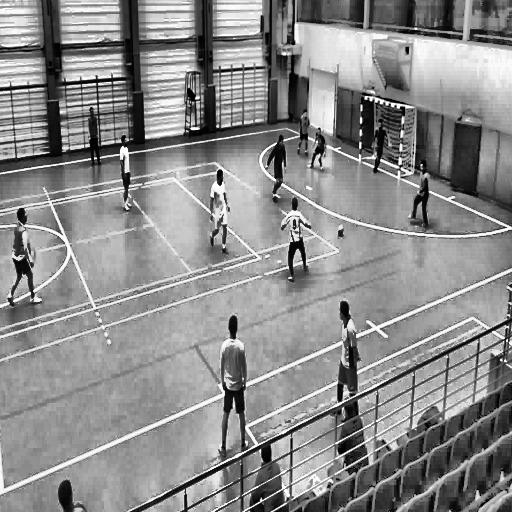ball: (336, 222, 346, 240)
player: (217, 310, 250, 456), (6, 207, 44, 315), (280, 196, 314, 284), (334, 296, 358, 417), (209, 167, 232, 259), (264, 132, 287, 206), (408, 158, 431, 232), (117, 126, 136, 214), (370, 118, 392, 178), (87, 103, 104, 169), (307, 127, 329, 176), (296, 106, 310, 160)
